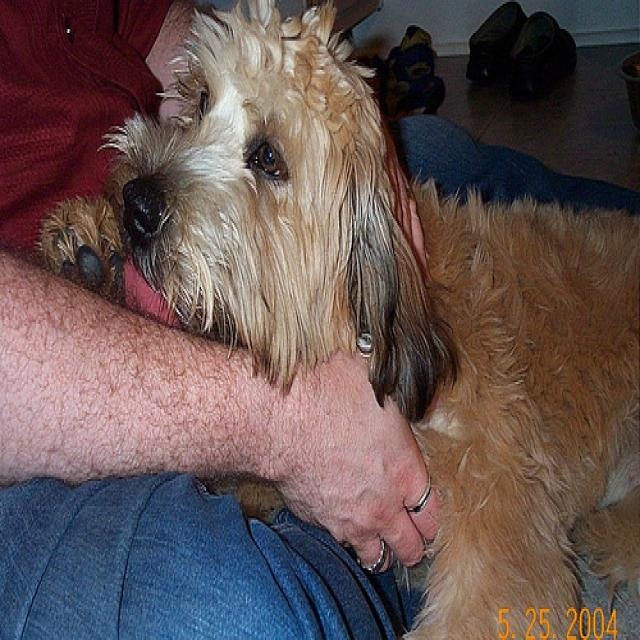dog-wheaten_terrier: (33, 2, 637, 636)
